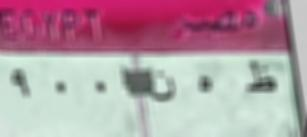0: (48, 74, 76, 106), (91, 75, 121, 98)
9: (8, 62, 34, 104)
Thaa: (239, 58, 281, 99)
haa: (191, 73, 217, 104)
noon: (145, 68, 180, 107)
